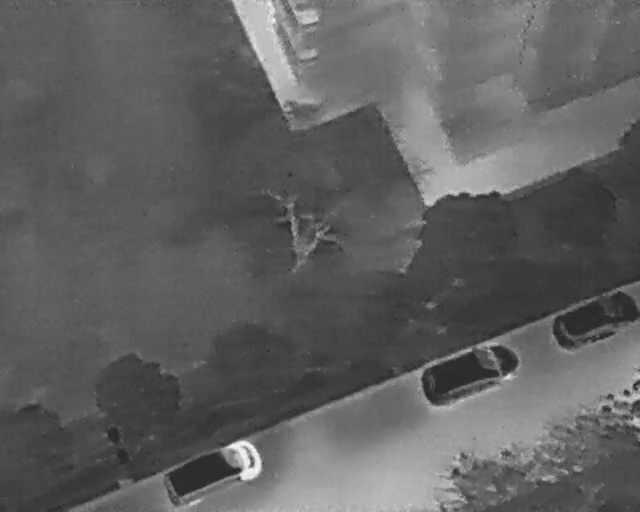Car: (412, 332, 526, 412), (158, 433, 266, 511), (544, 288, 639, 357)
